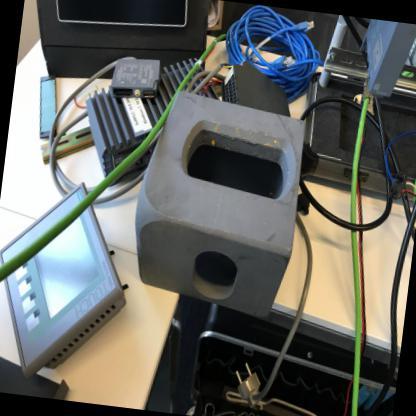CornerCasting: (123, 86, 312, 324)
